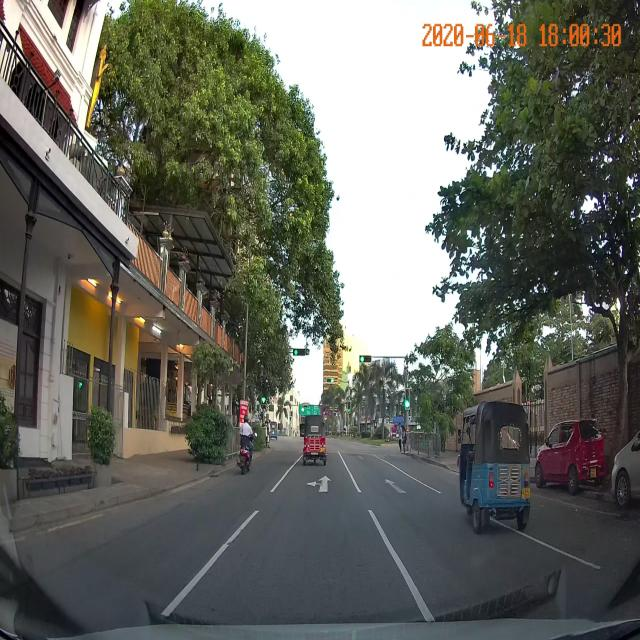forward_lft: (249, 470, 378, 505)
